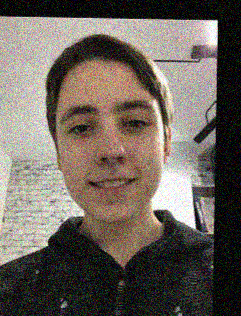without_mask: (50, 97, 167, 224)
